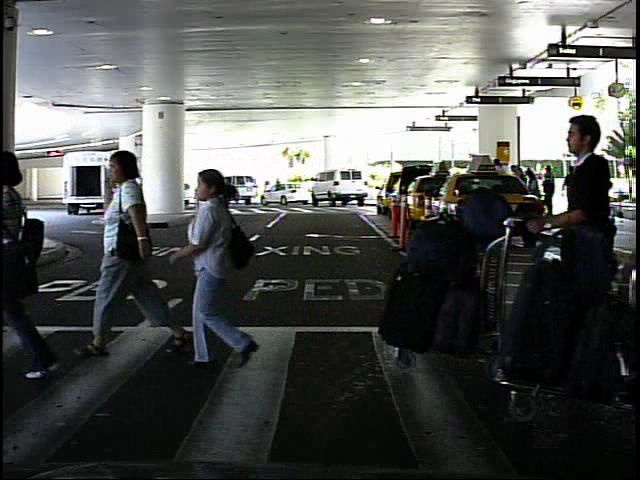person: (542, 96, 631, 393), (170, 159, 250, 382), (101, 137, 178, 359), (585, 172, 604, 217), (105, 172, 118, 203), (261, 178, 272, 204)
